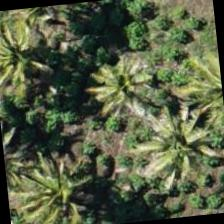Kelapa_Sawit: (78, 33, 176, 132), (134, 99, 223, 199), (9, 139, 108, 223), (0, 5, 75, 103), (169, 38, 223, 134)
